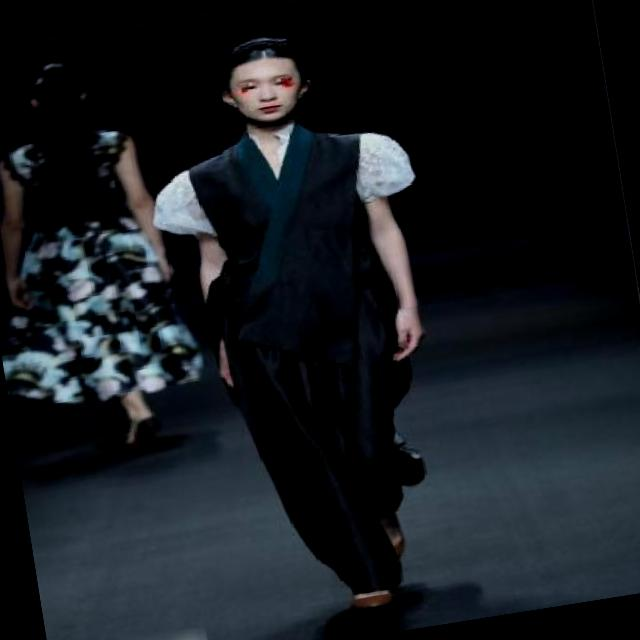Person: (126, 0, 519, 640)
